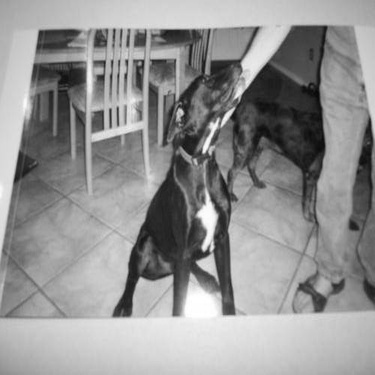dog: (98, 60, 247, 319), (223, 90, 373, 234)
